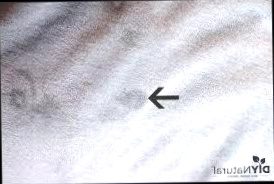oil: (97, 85, 150, 127)
